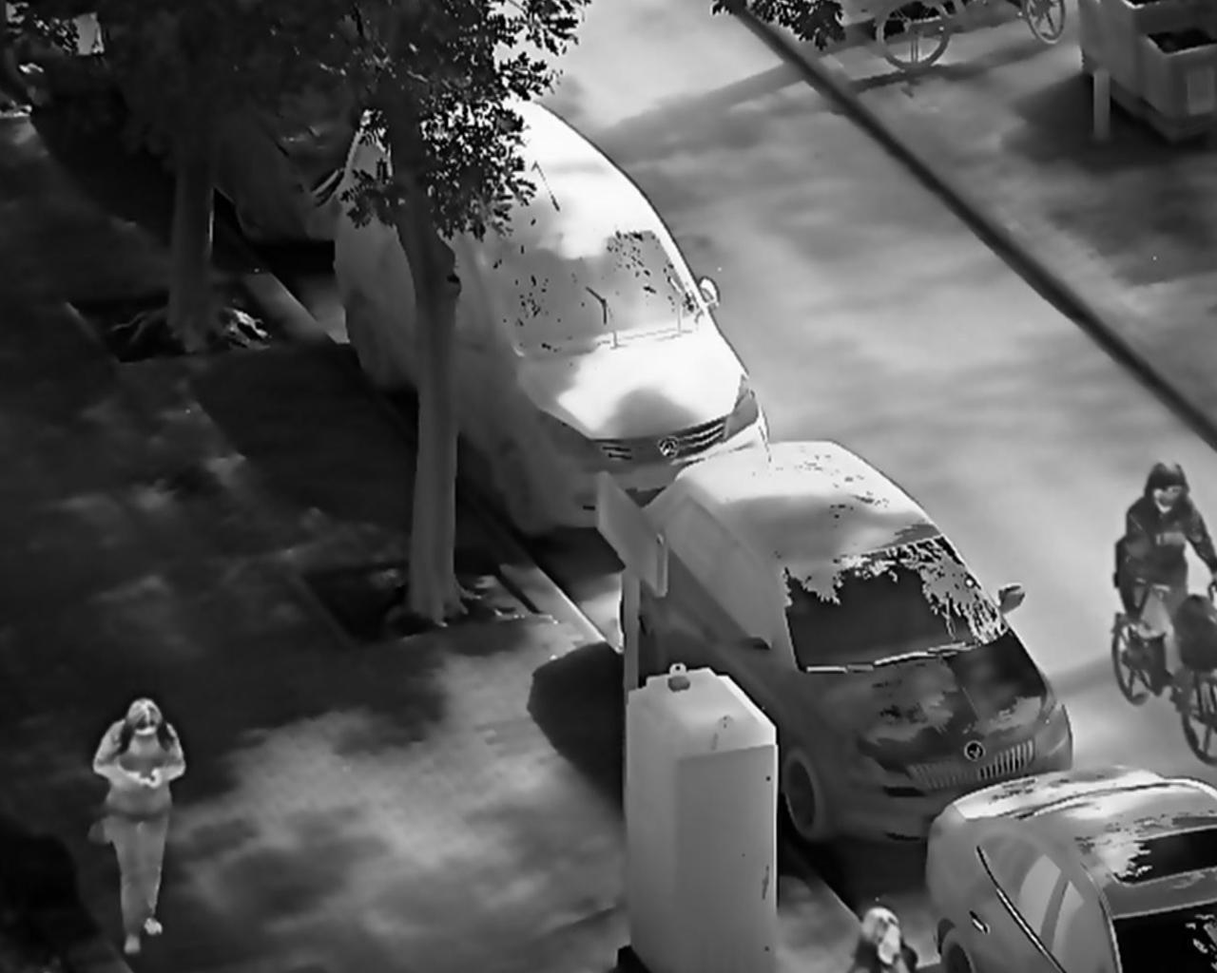person: (87, 694, 191, 962), (1111, 456, 1217, 707)
